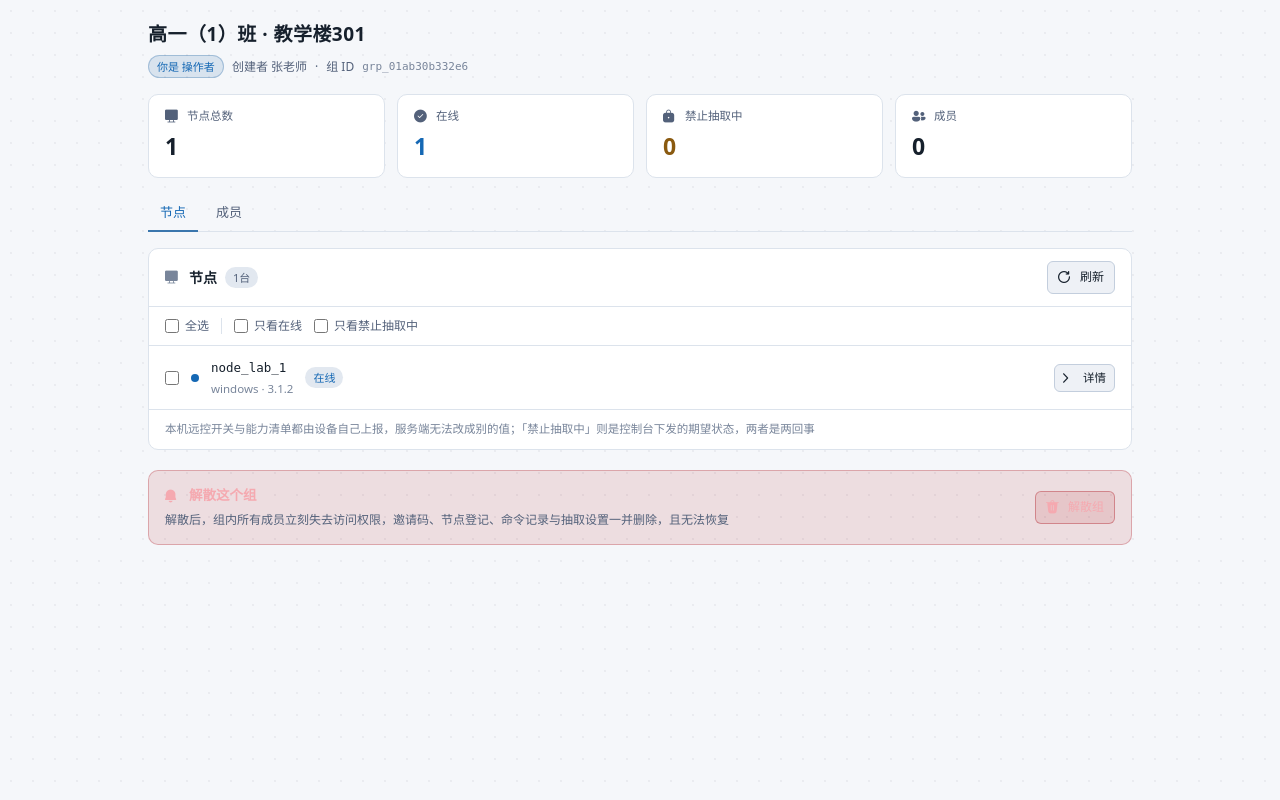
GroupDetailView 单节点展开区 › 展开区不再显示「禁止抽取」与「立即抽取」
Click the button with test id "node-expand-node_lab_1": (1084, 378) [1054,364,1115,392]
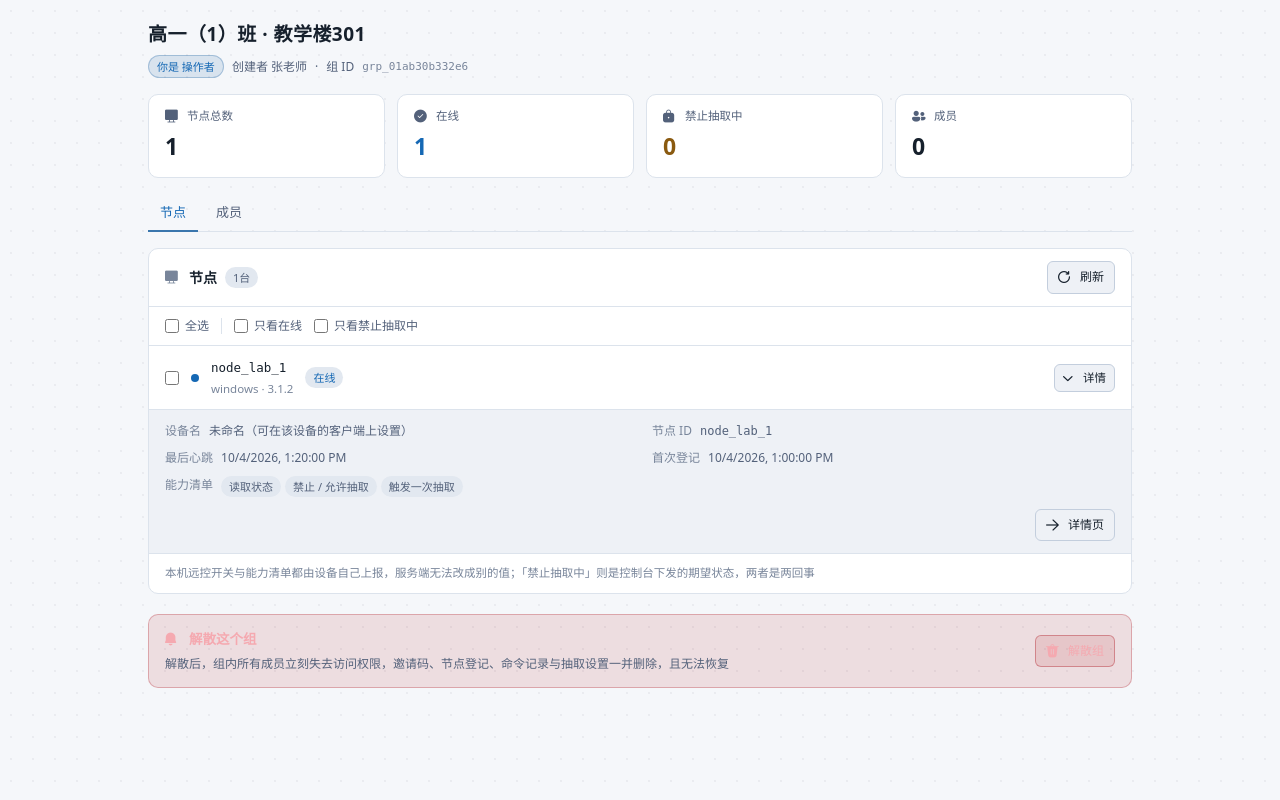
Now the element with test id "node-detail-node_lab_1" shows "读取状态", box [229,479,273,494]
Now the element with test id "node-detail-node_lab_1" shows "触发一次抽取", box [389,479,455,494]
